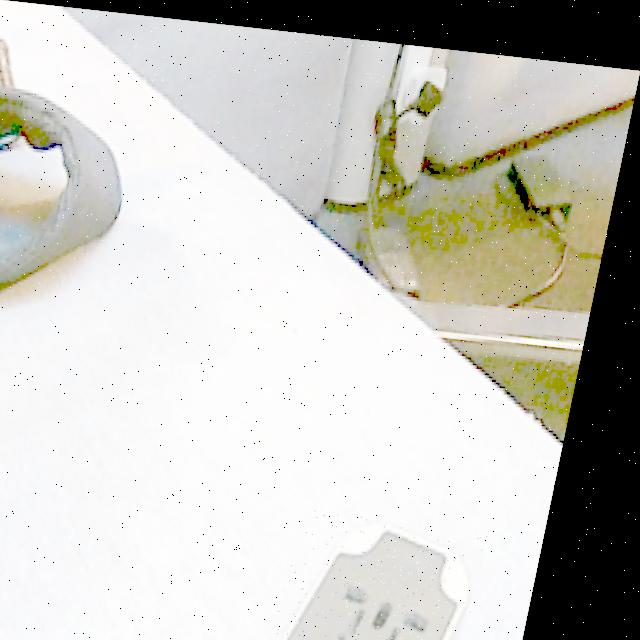adapter: (291, 500, 509, 640)
